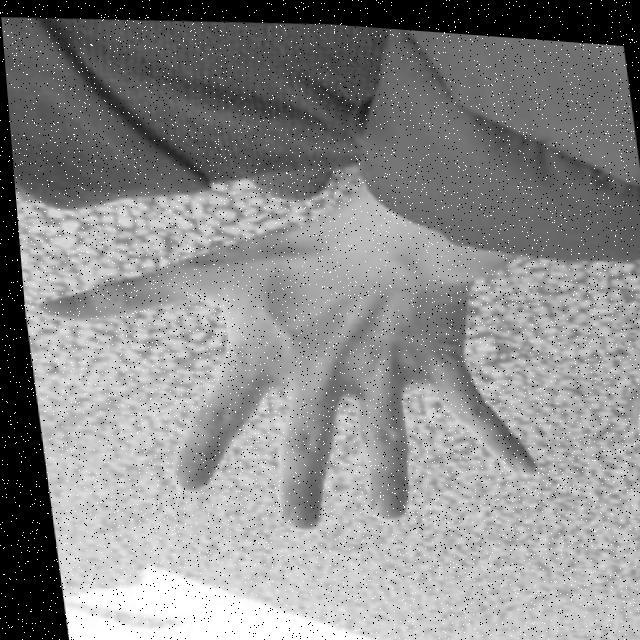no-gloves: (23, 206, 540, 554)
